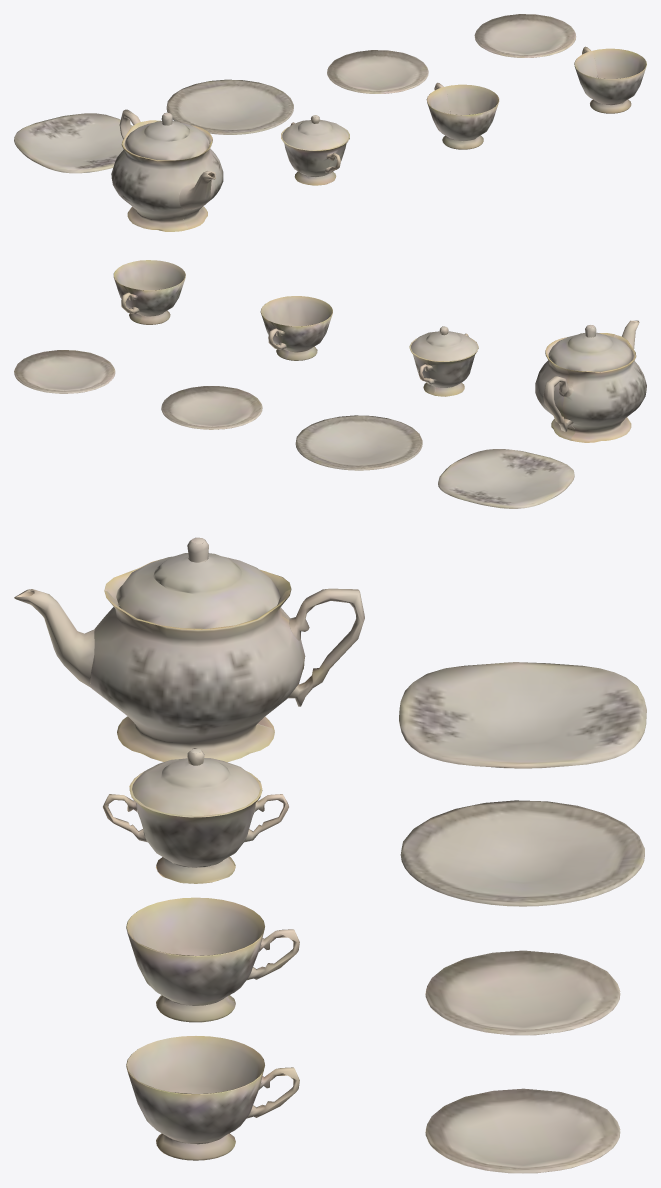
The model's file is obj_tea_set_01_4k.glb.
3 renders of one model, top to bottom at view 1: azimuth 30°, elevation 25°; view 2: azimuth 150°, elevation 25°; view 3: azimuth 270°, elevation 25°, orthographic. The views are drawn at different scales.
Parts seen in each view (by area): view 1: tea_set_01_cup_small_01_tea_set_01_0; view 2: tea_set_01_cup_small_01_tea_set_01_0; view 3: tea_set_01_cup_small_01_tea_set_01_0.
Part boxes in pixels (x1,y1,x2,y2): tea_set_01_cup_small_01_tea_set_01_0: (14, 14, 646, 231); tea_set_01_cup_small_01_tea_set_01_0: (14, 260, 646, 508); tea_set_01_cup_small_01_tea_set_01_0: (14, 537, 646, 1173).
Bounding box in the file's own units: 0.4199 × 0.0755 × 0.2213.
1 material, 1 textured.
